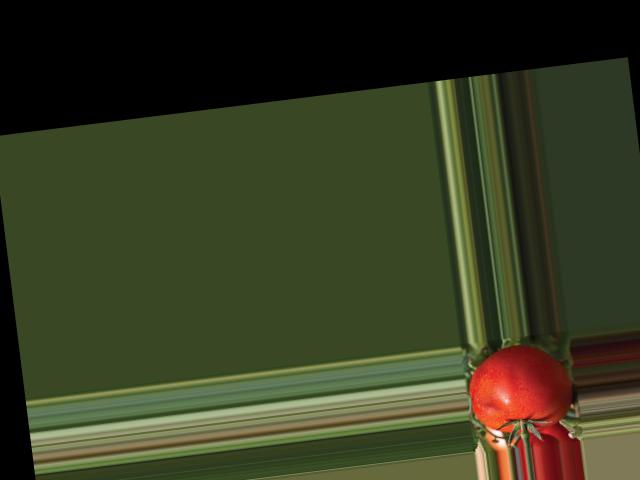tomato: (464, 339, 576, 438)
